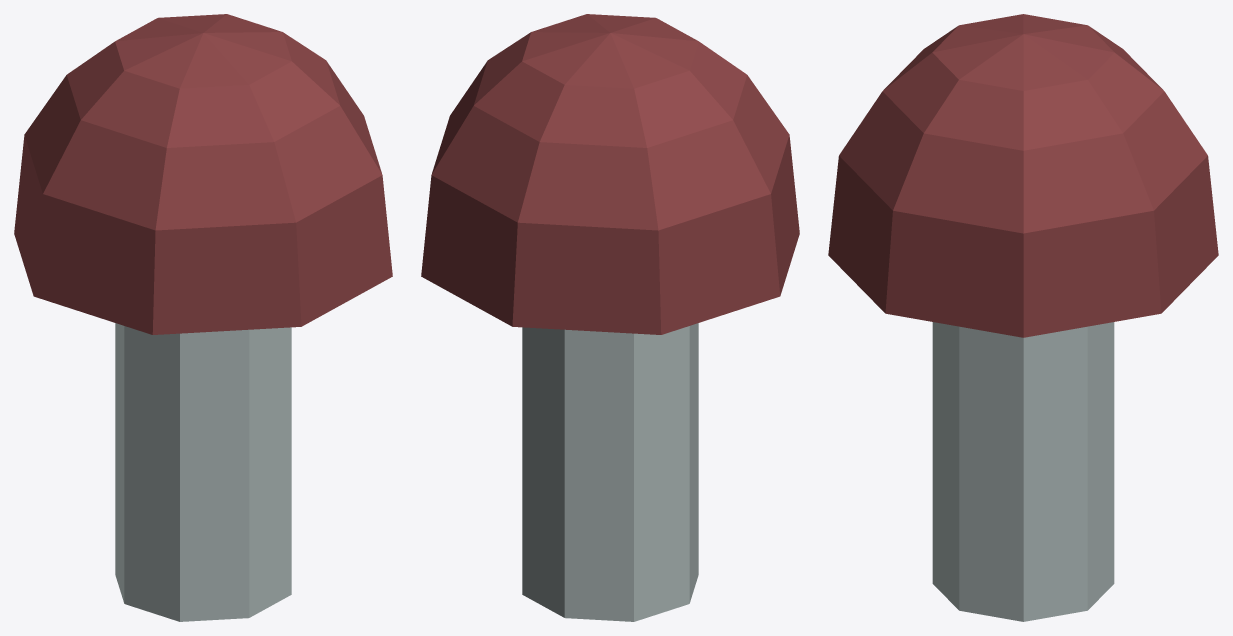
File: MountainMushroom-sizing.glb
3 views of the same model, side by side, from view 1: azimuth 30°, elevation 25°; view 2: azimuth 150°, elevation 25°; view 3: azimuth 270°, elevation 25° (orthographic).
Parts seen in each view (by area): view 1: |pCylinder1_lambert3, |pCylinder1_lambert2; view 2: |pCylinder1_lambert3, |pCylinder1_lambert2; view 3: |pCylinder1_lambert3, |pCylinder1_lambert2.
Boxes of the visible parts, x1,y1,x2,y2 form: |pCylinder1_lambert3: (14, 14, 392, 334); |pCylinder1_lambert2: (115, 323, 291, 621); |pCylinder1_lambert3: (421, 14, 799, 334); |pCylinder1_lambert2: (522, 323, 698, 621); |pCylinder1_lambert3: (828, 14, 1218, 337); |pCylinder1_lambert2: (932, 322, 1114, 621).
Bounding box in the file's own units: 1.64 × 2.54 × 1.64.
